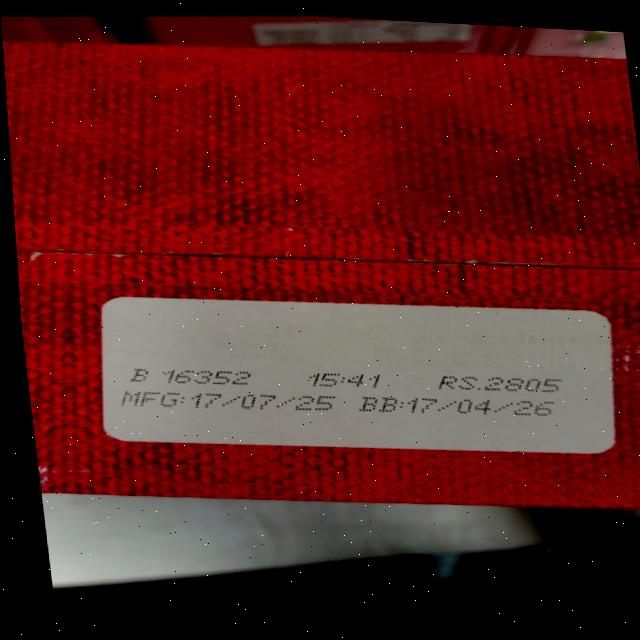BB: (358, 385, 562, 426)
Batch: (129, 359, 258, 392)
MFG: (120, 379, 338, 421)
RS: (437, 369, 568, 399)
TimeStamp: (305, 369, 386, 392)
